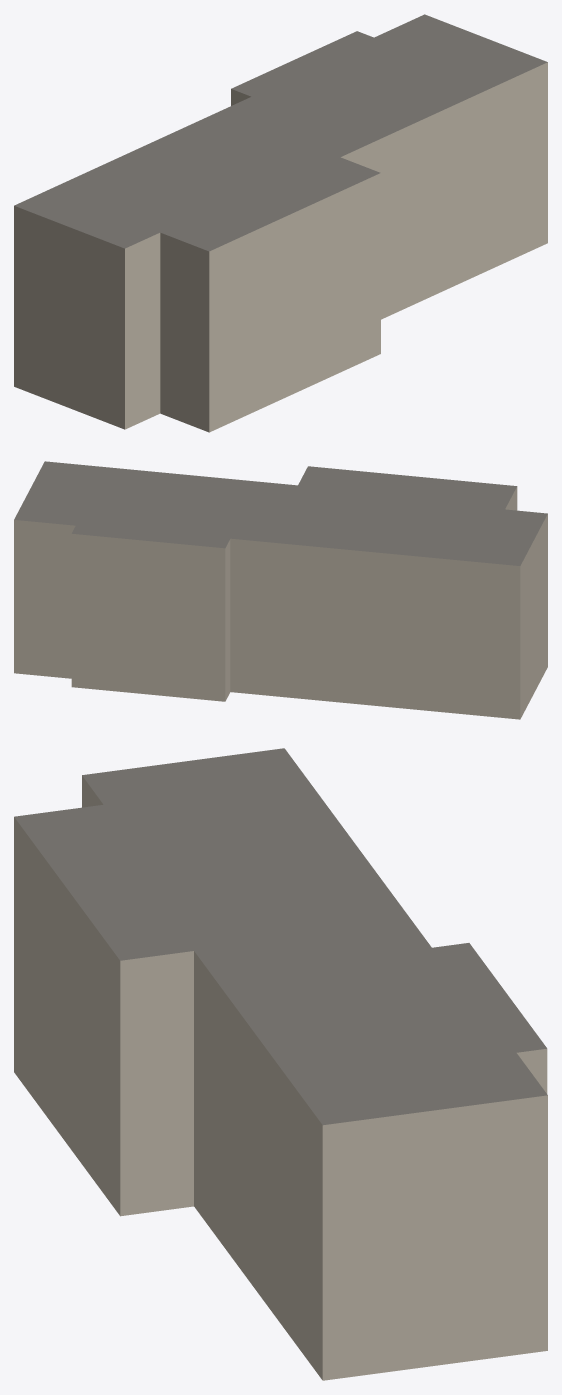
3 views of the same model, one above another, from view 1: azimuth 30°, elevation 25°; view 2: azimuth 150°, elevation 25°; view 3: azimuth 270°, elevation 25° (orthographic). The views are drawn at different scales.
Visible parts, largest first — view 1: HP-w299010058; view 2: HP-w299010058; view 3: HP-w299010058.
Part boxes in pixels (box(x1,y1,x2,y2)): HP-w299010058: box(14, 14, 547, 432); HP-w299010058: box(14, 461, 547, 719); HP-w299010058: box(14, 748, 547, 1380).
Bounding box in the file's own units: 56.97 × 18 × 34.09.
